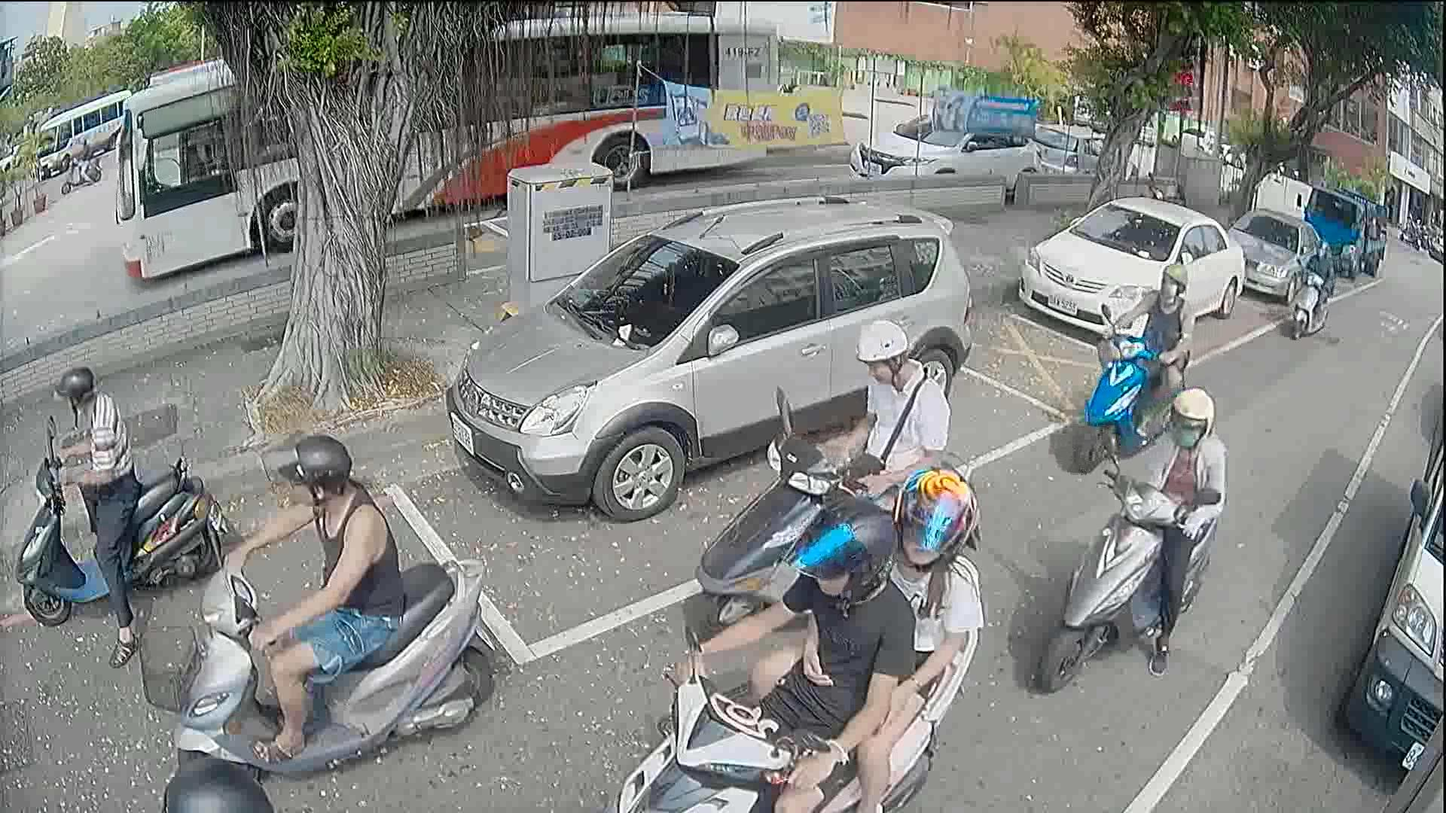person: (650, 490, 917, 812), (761, 473, 978, 811), (214, 423, 403, 769), (1130, 376, 1228, 676), (46, 361, 145, 657), (797, 322, 950, 496), (1095, 251, 1192, 406), (159, 747, 275, 812), (69, 133, 95, 185), (1305, 239, 1331, 279)
